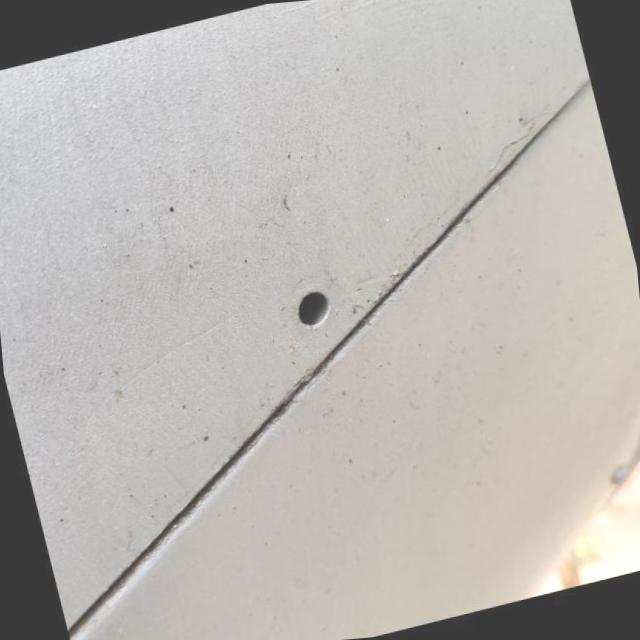Missing Fastener: (298, 288, 332, 326)
